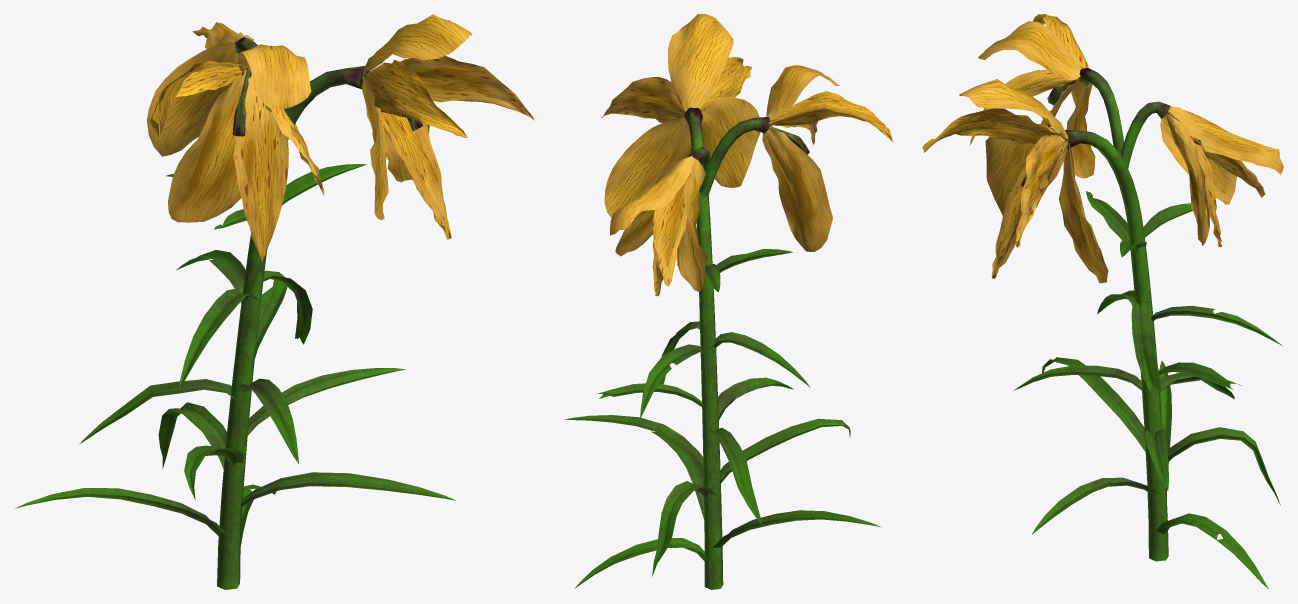
The model's file is flower-dead.glb.
3 renders of one model, left to right at view 1: azimuth 30°, elevation 25°; view 2: azimuth 150°, elevation 25°; view 3: azimuth 270°, elevation 25°, orthographic. The views are drawn at different scales.
Visible parts, largest first — view 1: Stem; view 2: Stem; view 3: Stem.
Part boxes in pixels (x1,y1,x2,y2): Stem: [15, 14, 534, 589]; Stem: [564, 14, 893, 589]; Stem: [922, 14, 1283, 588].
Size of the model in its own units: 0.4349 by 0.584 by 0.365.
Materials: 1 (1 with a texture image).
